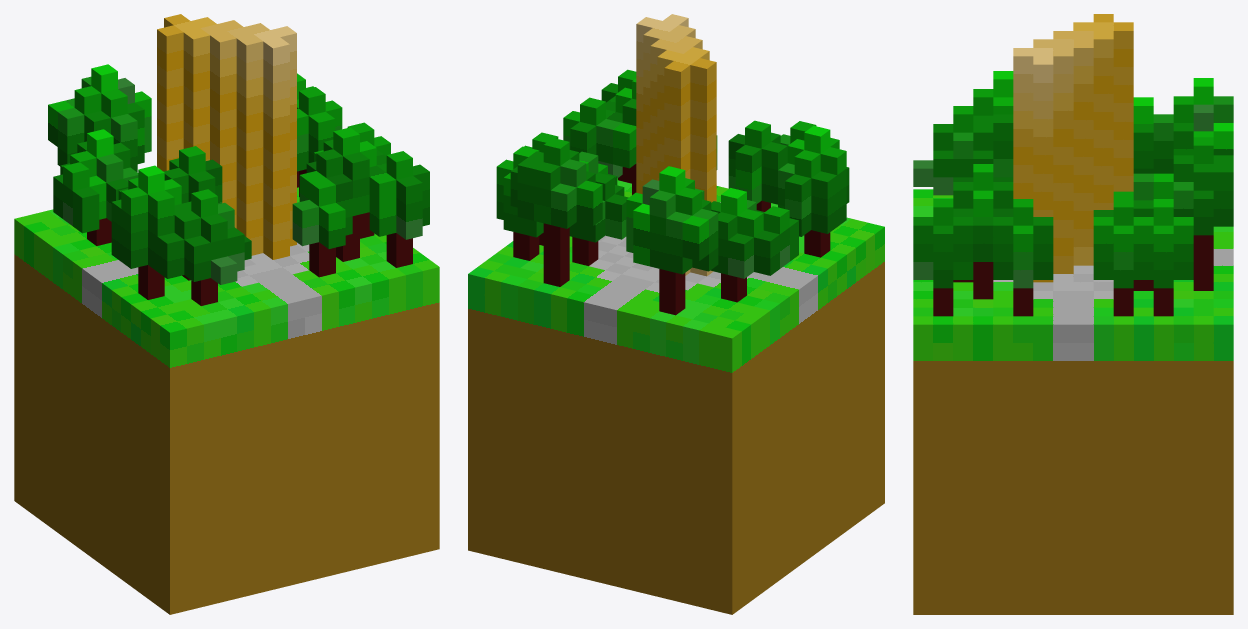
The model's file is monument_of_mining.gltf.
3 views of the same model, side by side, from view 1: azimuth 30°, elevation 25°; view 2: azimuth 150°, elevation 25°; view 3: azimuth 270°, elevation 25° (orthographic). The views are drawn at different scales.
Parts seen in each view (by area): view 1: Content-Mesh; view 2: Content-Mesh; view 3: Content-Mesh.
Part boxes in pixels (x1=…): Content-Mesh: x1=14, y1=14, x2=439, y2=614; Content-Mesh: x1=468, y1=14, x2=884, y2=614; Content-Mesh: x1=913, y1=14, x2=1233, y2=614.
Size of the model in its own units: 16 by 28 by 16.
Materials: 1 (1 with a texture image).
